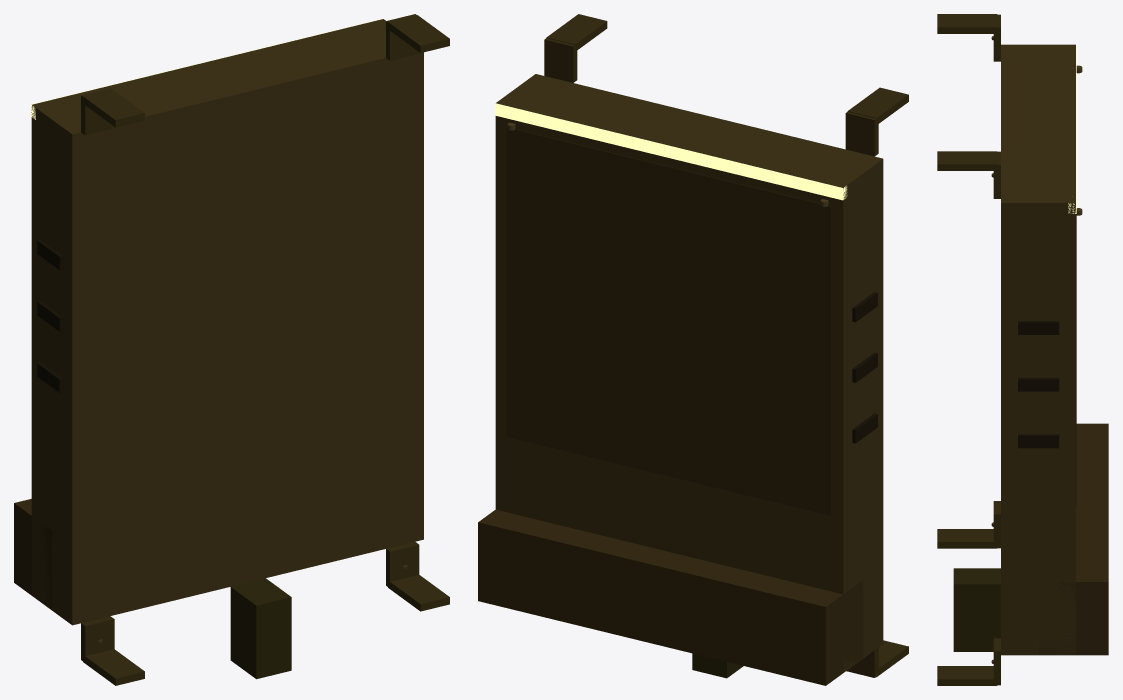
File: SchedulingTerminal.fbx
3 views of the same model, side by side, from view 1: azimuth 30°, elevation 25°; view 2: azimuth 150°, elevation 25°; view 3: azimuth 270°, elevation 25° (orthographic). The views are drawn at different scales.
Parts seen in each view (by area): view 1: Term_Casing, Term_Conduit, Term_CtrlStrip, Term_Brk_TL_Wall, Term_Brk_TR_Wall, Term_Brk_BL_Wall, Term_Brk_BR_Wall, Term_Brk_BL_Back, Term_Brk_BR_Back, Term_Brk_TL_Back, Term_Brk_TR_Back; view 2: Term_Screen_Bezel, Term_Casing, Term_CtrlStrip, Term_LED_Strip, Term_Brk_TL_Back, Term_Brk_TR_Back, Term_Brk_TR_Wall, Term_Brk_TL_Wall, Term_Conduit, Term_Brk_BL_Wall; view 3: Term_Casing, Term_CtrlStrip, Term_Conduit, Term_Brk_TR_Wall, Term_Brk_TL_Wall, Term_Brk_BR_Wall, Term_Brk_BL_Wall, Term_Vent_R_1, Term_Vent_R_2, Term_Vent_R_0, Term_Brk_BL_Back, Term_Brk_BR_Back (+3 smaller).
Boxes of the visible parts, x1,y1,x2,y2 form: Term_Casing: [31, 19, 423, 625]; Term_Conduit: [230, 578, 291, 679]; Term_CtrlStrip: [14, 499, 51, 609]; Term_Brk_TL_Wall: [83, 89, 144, 127]; Term_Brk_TR_Wall: [388, 15, 449, 52]; Term_Brk_BL_Wall: [83, 649, 144, 685]; Term_Brk_BR_Wall: [388, 575, 449, 611]; Term_Brk_BL_Back: [81, 616, 114, 662]; Term_Brk_BR_Back: [386, 542, 419, 588]; Term_Brk_TL_Back: [81, 88, 114, 135]; Term_Brk_TR_Back: [386, 14, 419, 60]; Term_Screen_Bezel: [506, 127, 831, 515]; Term_Casing: [495, 74, 883, 672]; Term_CtrlStrip: [478, 509, 863, 685]; Term_LED_Strip: [495, 103, 847, 200]; Term_Brk_TL_Back: [845, 111, 878, 156]; Term_Brk_TR_Back: [544, 38, 577, 82]; Term_Brk_TR_Wall: [546, 14, 607, 51]; Term_Brk_TL_Wall: [847, 87, 908, 123]; Term_Conduit: [692, 653, 743, 678]; Term_Brk_BL_Wall: [876, 640, 908, 677]; Term_Casing: [1001, 44, 1075, 655]; Term_CtrlStrip: [1038, 423, 1108, 655]; Term_Conduit: [953, 568, 1000, 651]; Term_Brk_TR_Wall: [937, 151, 997, 170]; Term_Brk_TL_Wall: [937, 14, 997, 33]; Term_Brk_BR_Wall: [937, 666, 997, 685]; Term_Brk_BL_Wall: [937, 529, 996, 548]; Term_Vent_R_1: [1018, 377, 1059, 391]; Term_Vent_R_2: [1018, 434, 1059, 448]; Term_Vent_R_0: [1018, 321, 1059, 334]; Term_Brk_BL_Back: [993, 501, 1000, 548]; Term_Brk_BR_Back: [993, 638, 1000, 685].
Bounding box in the file's own units: 0.612 × 0.981 × 0.274.
